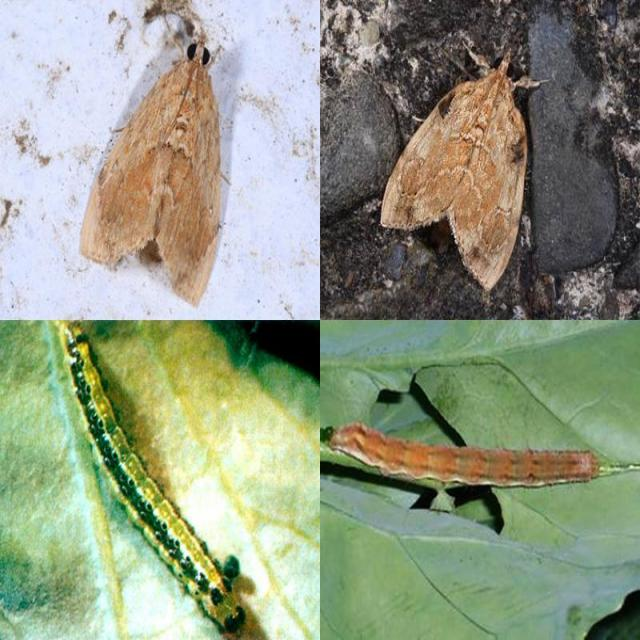armyworm: (48, 326, 262, 640), (80, 38, 246, 298), (388, 55, 534, 288), (327, 410, 603, 506)
